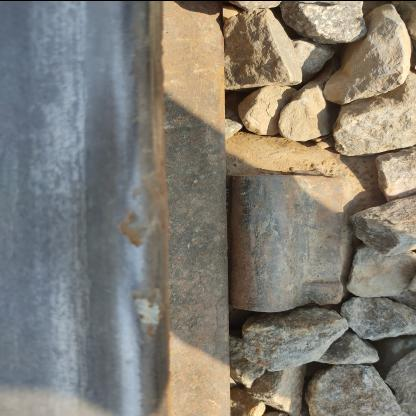Defective: (193, 152, 397, 366)
